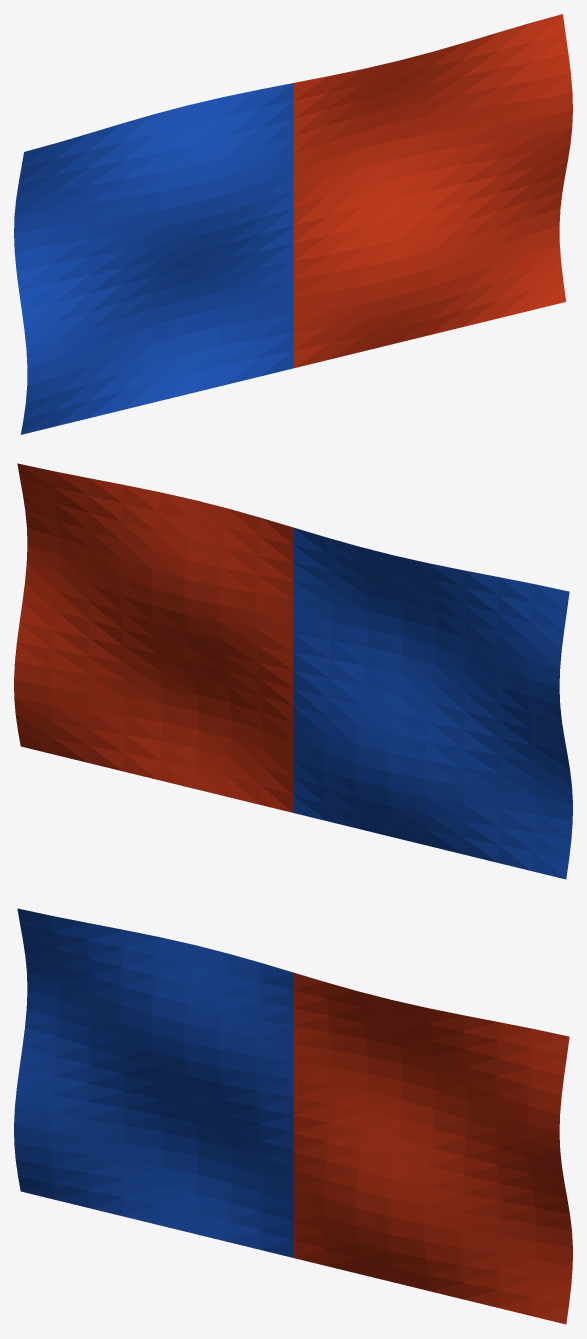
Rendered from seam_grid.obj.
3 views of the same model, one above another, from view 1: azimuth 30°, elevation 25°; view 2: azimuth 150°, elevation 25°; view 3: azimuth 330°, elevation 25° (orthographic).
Parts seen in each view (by area): view 1: seam_grid; view 2: seam_grid; view 3: seam_grid.
Boxes of the visible parts, x1,y1,x2,y2 form: seam_grid: (14, 14, 572, 434); seam_grid: (14, 463, 572, 879); seam_grid: (14, 908, 572, 1324).
Bounding box in the file's own units: 8 × 4 × 0.3586.
